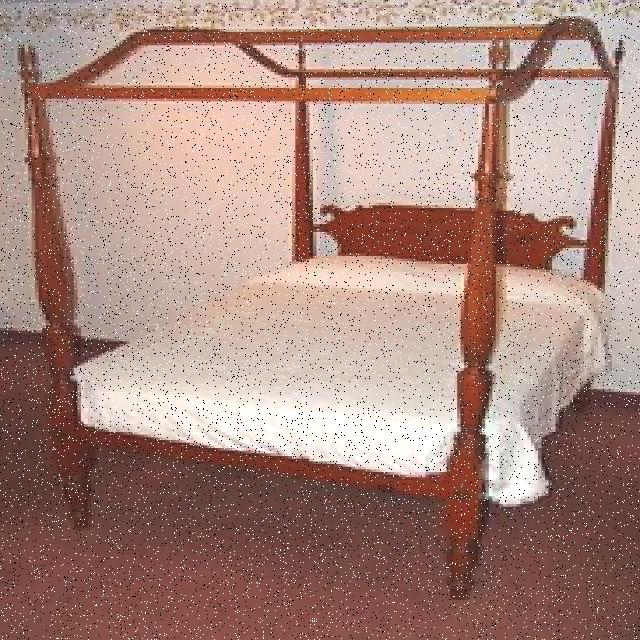bed: (82, 194, 612, 508)
